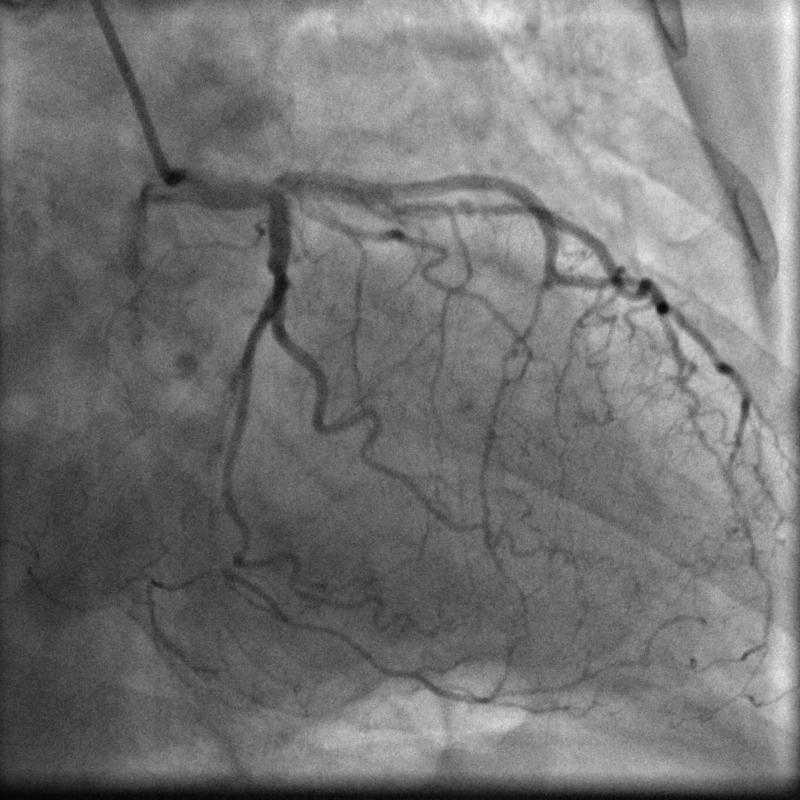Stenosis: (426, 188, 506, 224)
